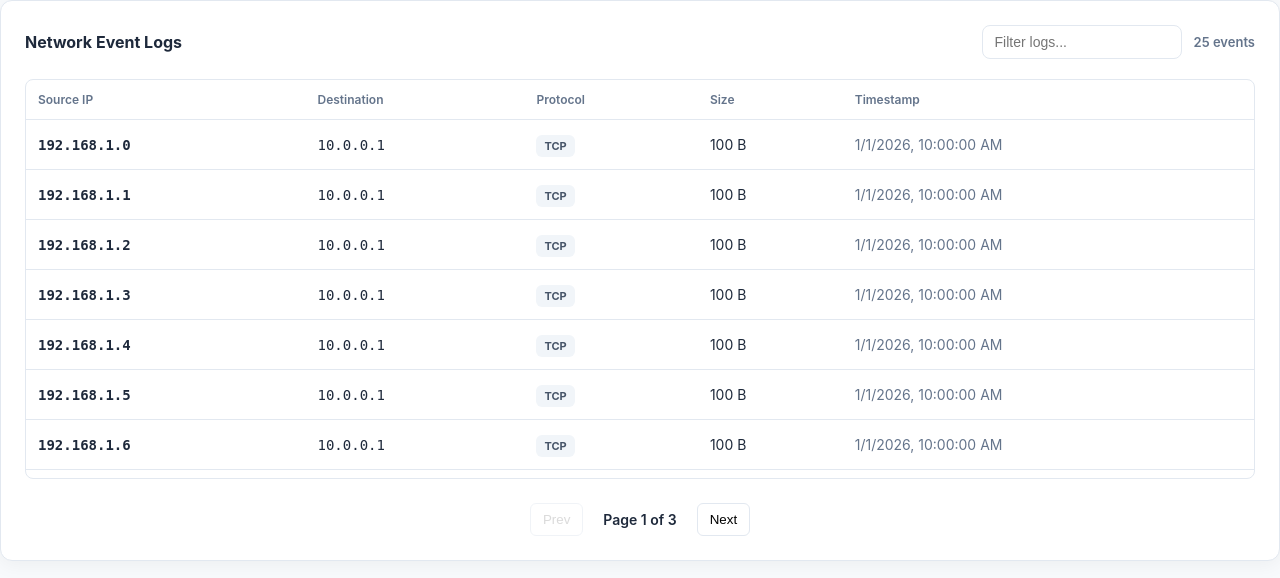
Test: Logs Component › pagination next button works
Expected: the text "192.168.1.0" is shown, [26,120,306,170]
Click the button "Next".
click(723, 520)  # box [697,503,750,536]
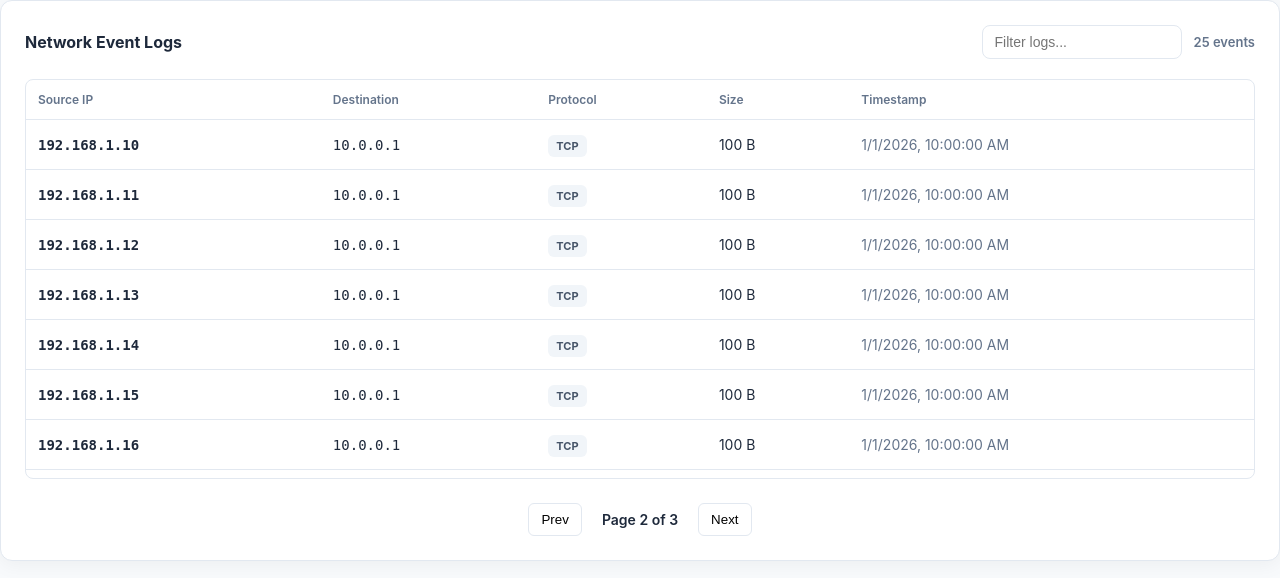
Now the text "Page 2 of 3" is shown, box [602,511,678,528]
